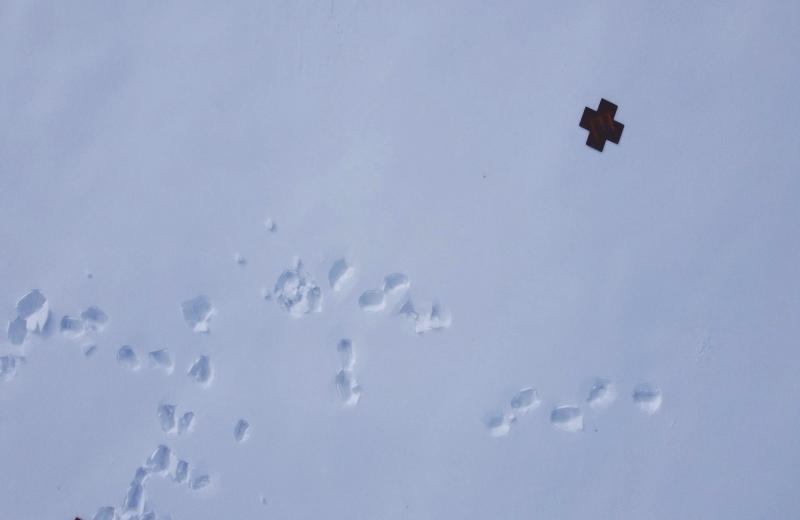Cross: (579, 98, 625, 153)
